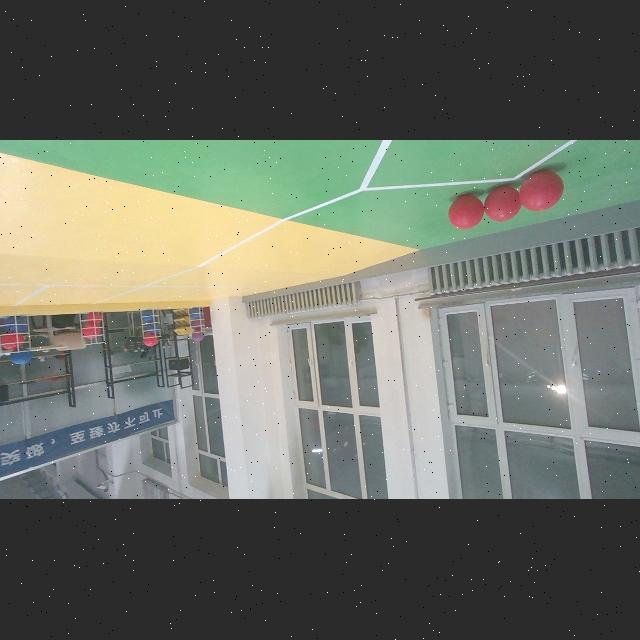R: (518, 170, 564, 212), (484, 186, 522, 222), (448, 196, 484, 230)
S: (0, 311, 32, 361), (75, 310, 105, 348), (136, 309, 160, 343), (186, 306, 206, 338)
